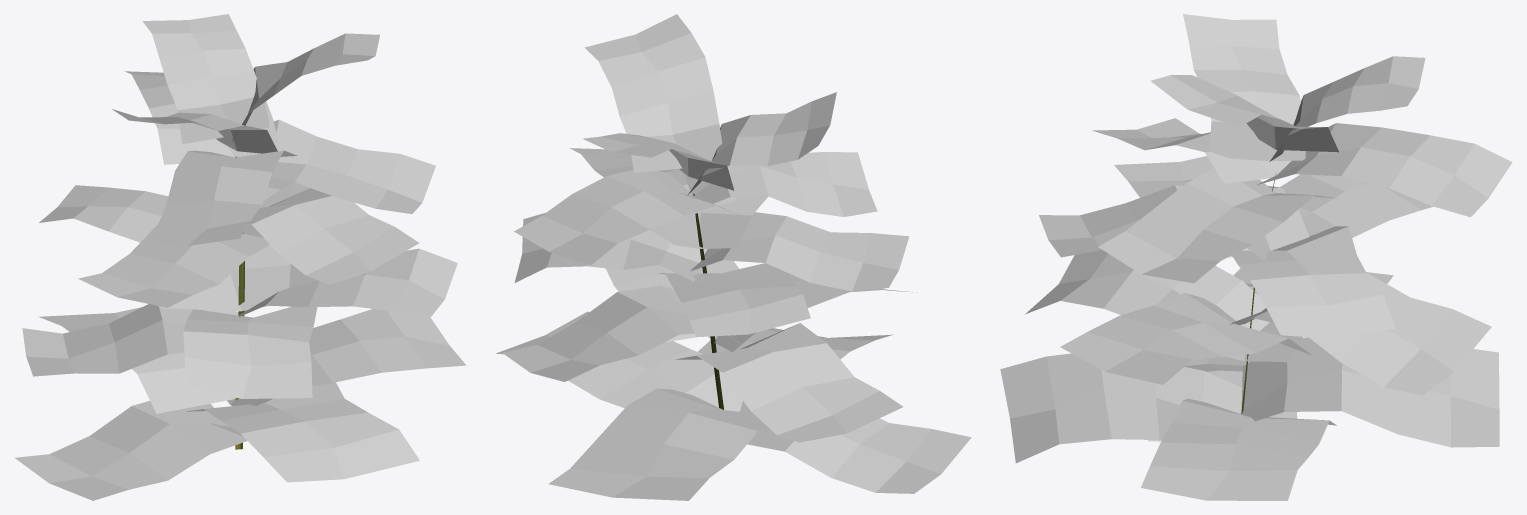
Rendered from HazlenutShrub3.fbx.
The picture shows the model from 3 angles, left to right: view 1: azimuth 30°, elevation 25°; view 2: azimuth 150°, elevation 25°; view 3: azimuth 270°, elevation 25°; orthographic projection. The views are drawn at different scales.
Parts seen in each view (by area): view 1: HazlenutShrub3; view 2: HazlenutShrub3; view 3: HazlenutShrub3.
Part boxes in pixels (box(x1,y1,x2,y2)): HazlenutShrub3: box(14, 14, 466, 500); HazlenutShrub3: box(496, 14, 971, 500); HazlenutShrub3: box(1000, 14, 1512, 500).
Size of the model in its own units: 204 by 186 by 199.
